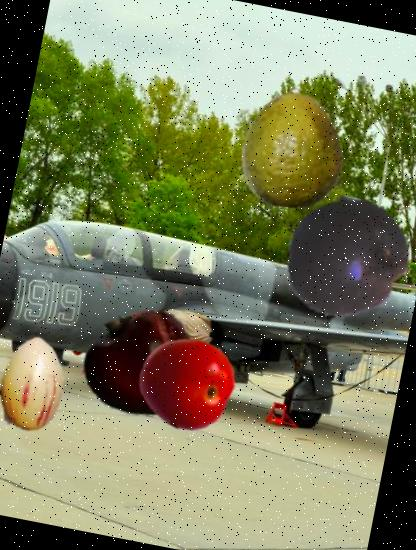Cherry: (74, 297, 210, 433)
Guava: (224, 81, 362, 218)
Passion: (276, 187, 416, 332)
Pepino: (0, 327, 86, 440)
Tomato: (130, 326, 241, 438)
